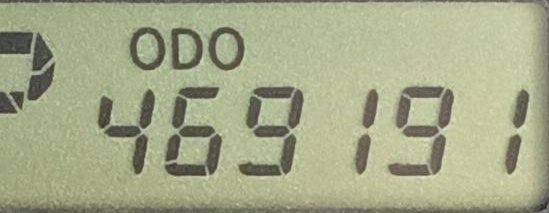1: (502, 86, 532, 176), (351, 86, 380, 176)
4: (96, 86, 158, 176)
6: (162, 86, 224, 178)
9: (387, 84, 456, 177), (236, 84, 305, 176)
X: (1, 29, 58, 128), (126, 26, 166, 71), (208, 25, 245, 72), (170, 27, 203, 71)
